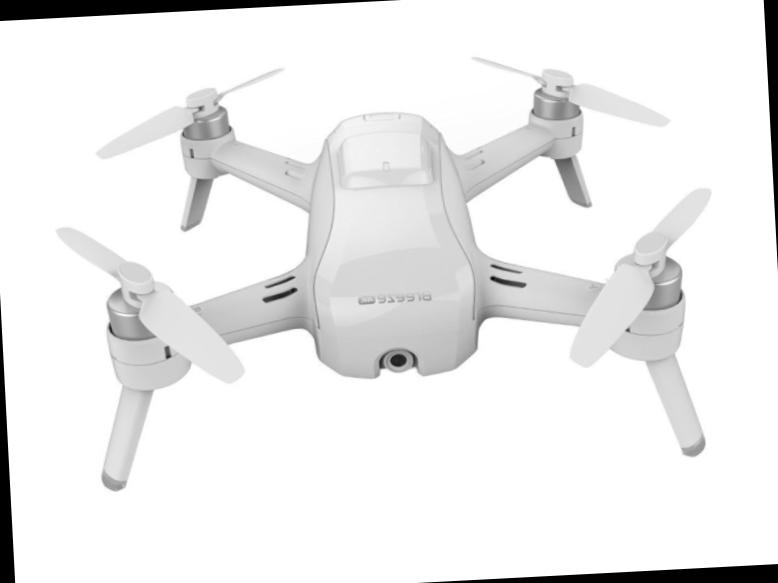drone: (53, 68, 704, 427)
